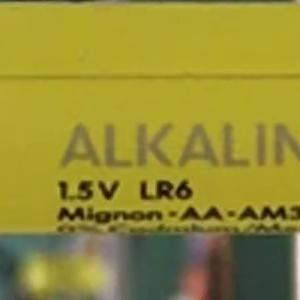keyword: (54, 128, 171, 175)
